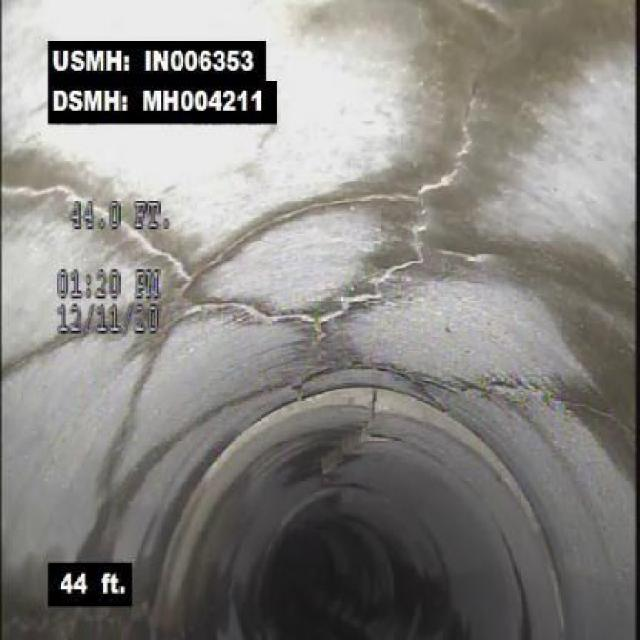Buckling: (317, 422, 372, 488)
Crack: (198, 186, 417, 268), (4, 184, 190, 276), (200, 269, 372, 349), (463, 363, 626, 422), (419, 83, 483, 199)
Joint offset: (197, 383, 374, 420), (374, 389, 461, 442)
